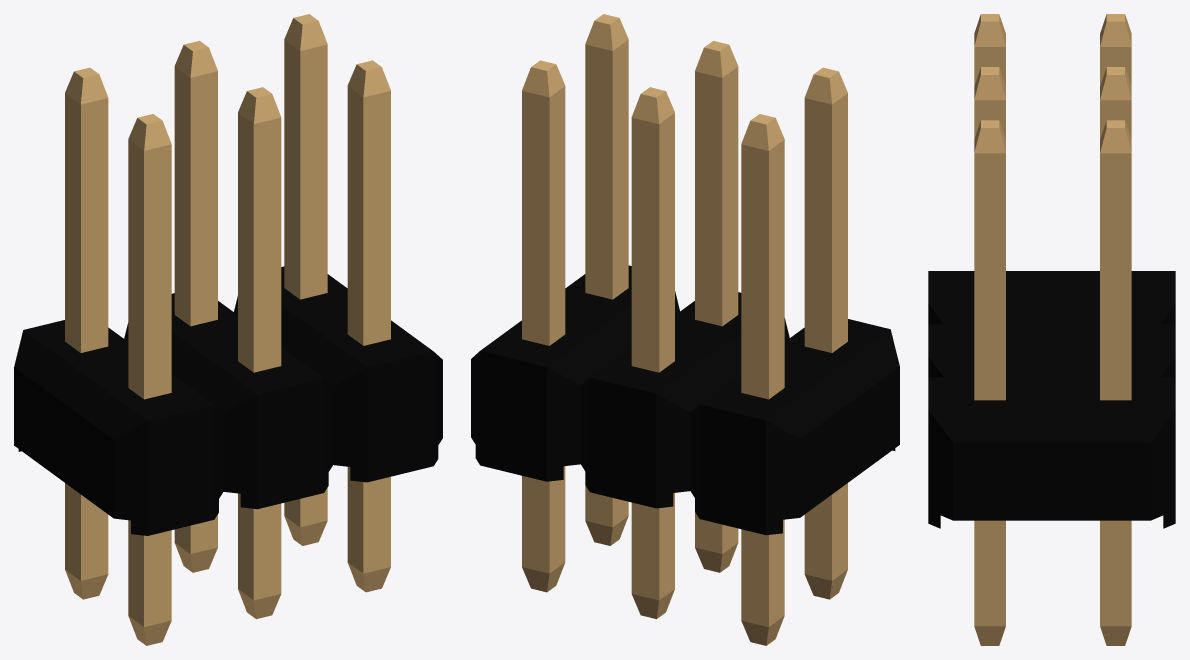
3 renders of one model, left to right at view 1: azimuth 30°, elevation 25°; view 2: azimuth 150°, elevation 25°; view 3: azimuth 270°, elevation 25°, orthographic.
Parts seen in each view (by area): view 1: _19; view 2: _19; view 3: _19.
Boxes of the visible parts, box(x1,y1,x2,y2) form: _19: box(14, 14, 442, 645); _19: box(471, 14, 899, 645); _19: box(928, 14, 1175, 645).
Bounding box in the file's own units: 7.62 × 5 × 11.54.
